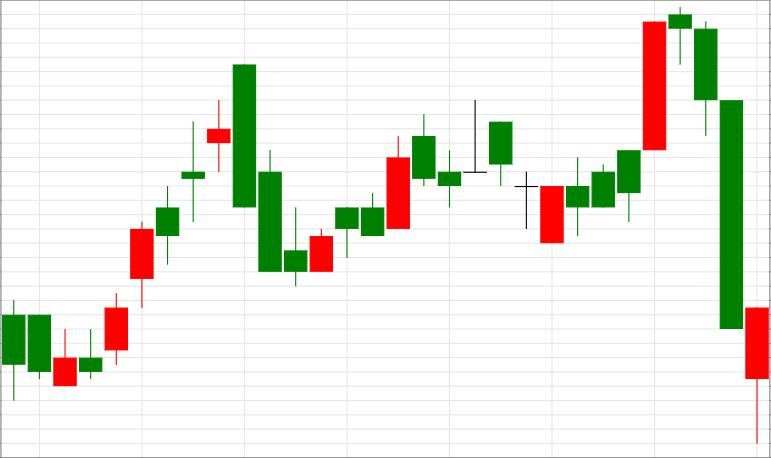bearish_engulfing_fall: (104, 64, 256, 366)
